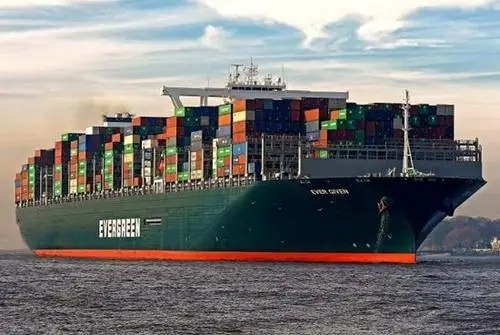Cargoship: (8, 61, 490, 262)
